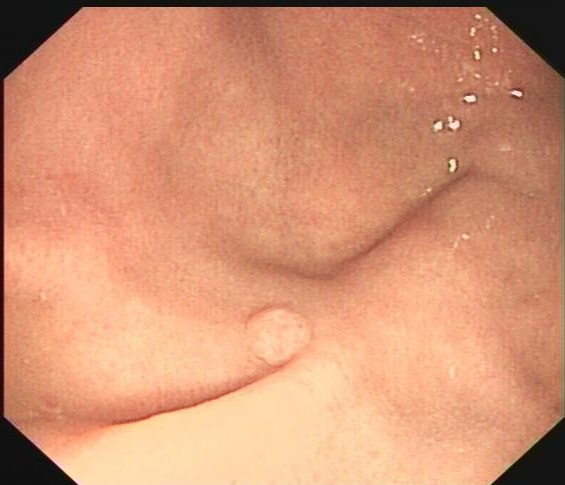Polyp: (230, 300, 321, 376)
